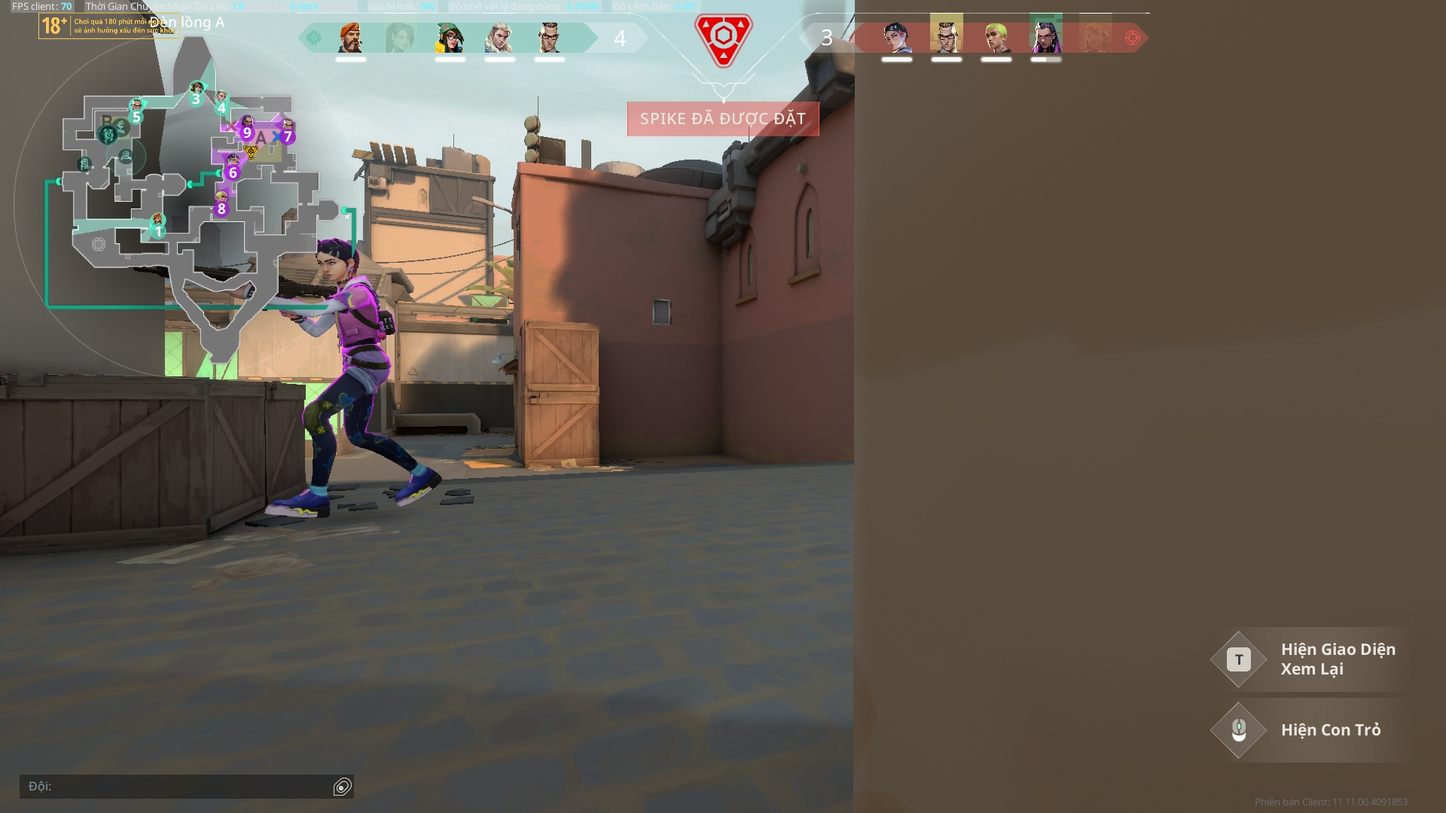body: (331, 279, 389, 355)
head: (315, 236, 362, 282)
